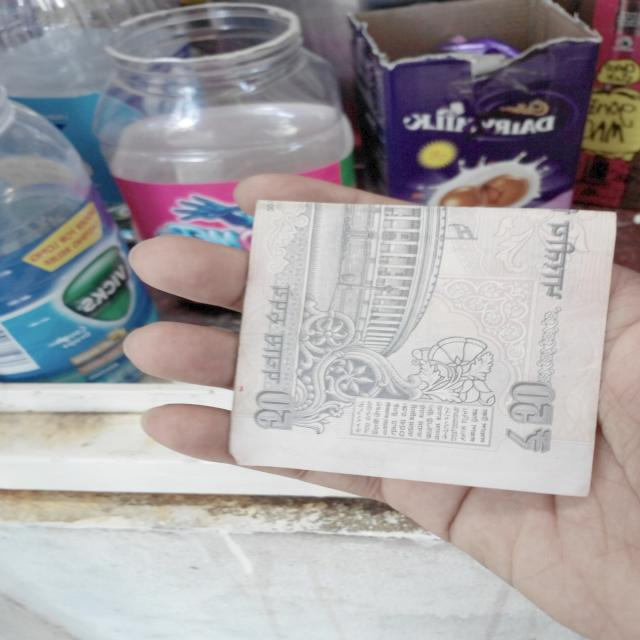50rs: (210, 206, 620, 497)
